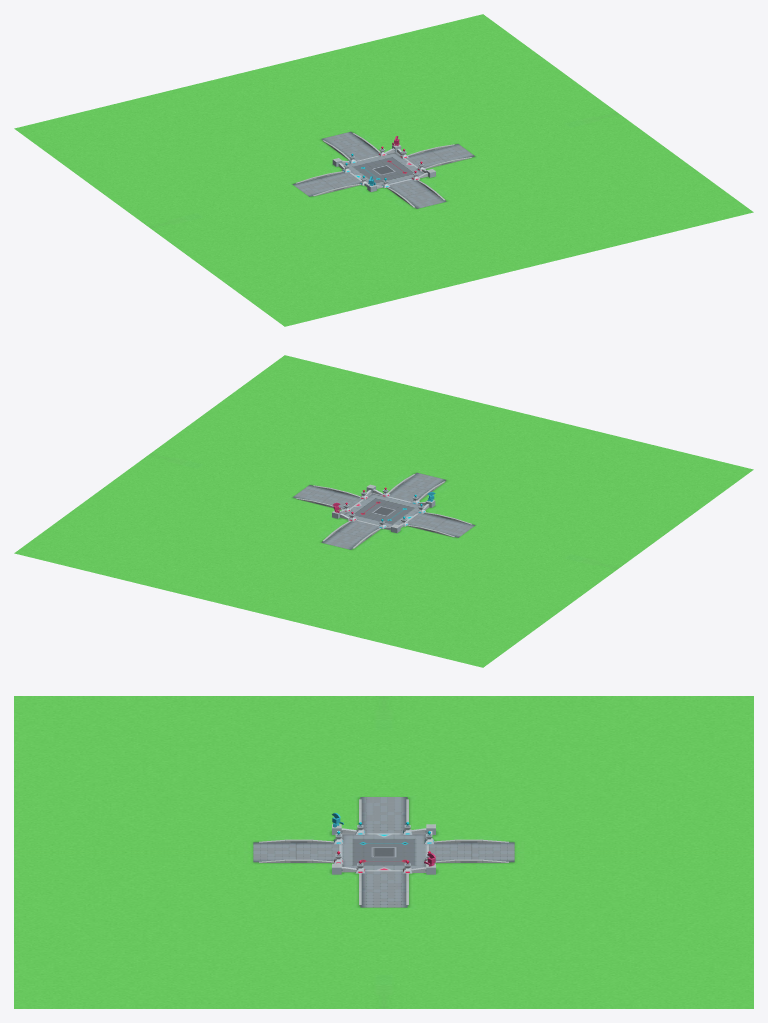
3 views of the same model, one above another, from view 1: azimuth 30°, elevation 25°; view 2: azimuth 150°, elevation 25°; view 3: azimuth 270°, elevation 25° (orthographic). The views are drawn at different scales.
Parts seen in each view (by area): view 1: newMap01; view 2: newMap01; view 3: newMap01.
Part boxes in pixels (box(x1,y1,x2,y2)): newMap01: box(14, 14, 753, 326); newMap01: box(14, 355, 753, 667); newMap01: box(14, 696, 753, 1008).
Size of the model in its own units: 151 by 4.29 by 151.
1 material, 1 textured.
